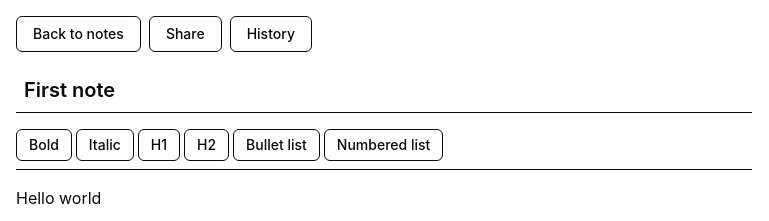
Scenario: NoteEditorPage › Status shows "Saving..." while a save is in flight
This screenshot has width=769, height=221.
Type "!" into the field showing "First note" at {"x": 384, "y": 90}, box [16,68,752,113]
Wait 2500 ms
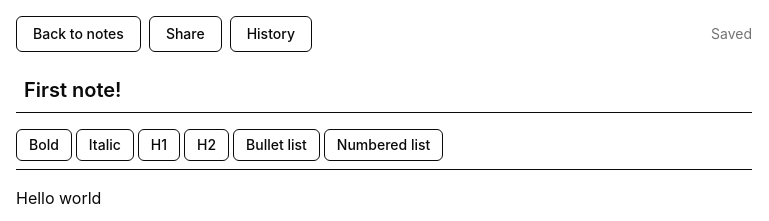
Expected: the text "Saving..." is shown, [711,24,752,44]
